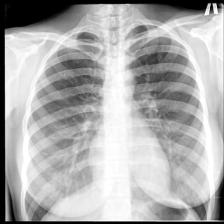tuberculosis: (14, 16, 218, 224)
